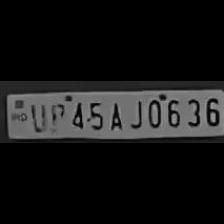0: (144, 96, 162, 128)
3: (183, 95, 200, 127)
4: (68, 98, 84, 130)
5: (84, 98, 106, 130)
6: (202, 94, 222, 126), (163, 96, 181, 128)
A: (106, 98, 126, 132)
J: (127, 97, 143, 129)
P: (48, 99, 64, 130)
U: (28, 99, 48, 131)
